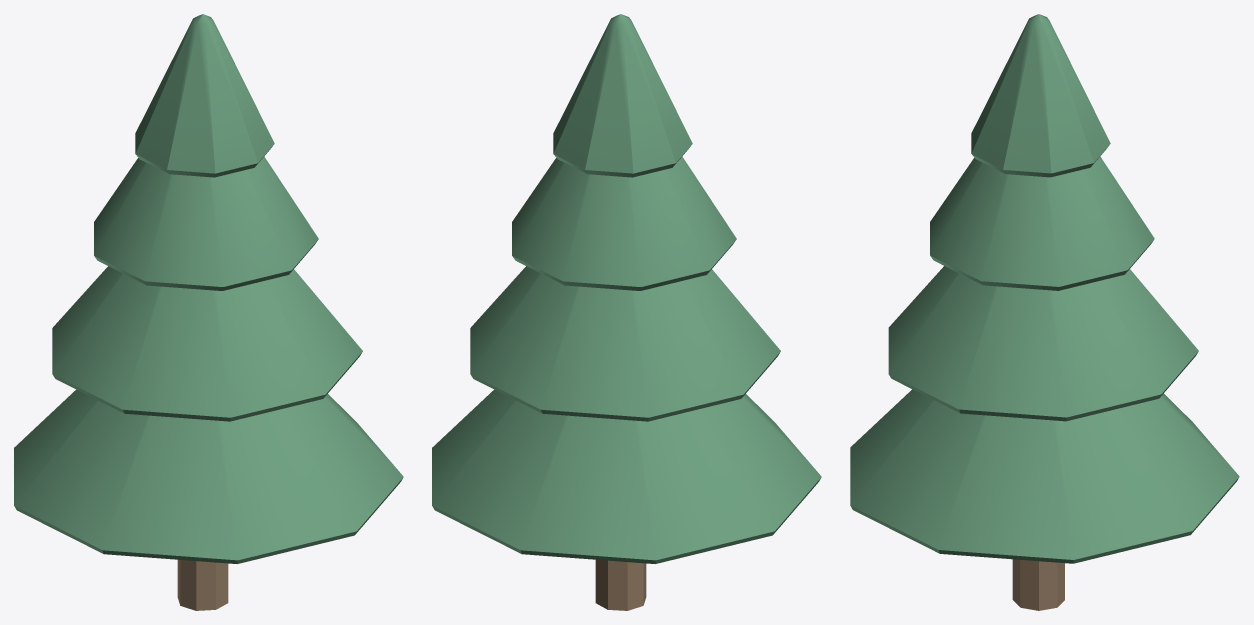
File: pine.glb
3 views of the same model, side by side, from view 1: azimuth 30°, elevation 25°; view 2: azimuth 150°, elevation 25°; view 3: azimuth 270°, elevation 25° (orthographic).
Parts seen in each view (by area): view 1: pine; view 2: pine; view 3: pine.
Part boxes in pixels (bbox=[...]): pine: bbox=[14, 14, 403, 610]; pine: bbox=[432, 14, 821, 610]; pine: bbox=[850, 14, 1239, 610].
Size of the model in its own units: 1.06 by 1.73 by 1.04.
